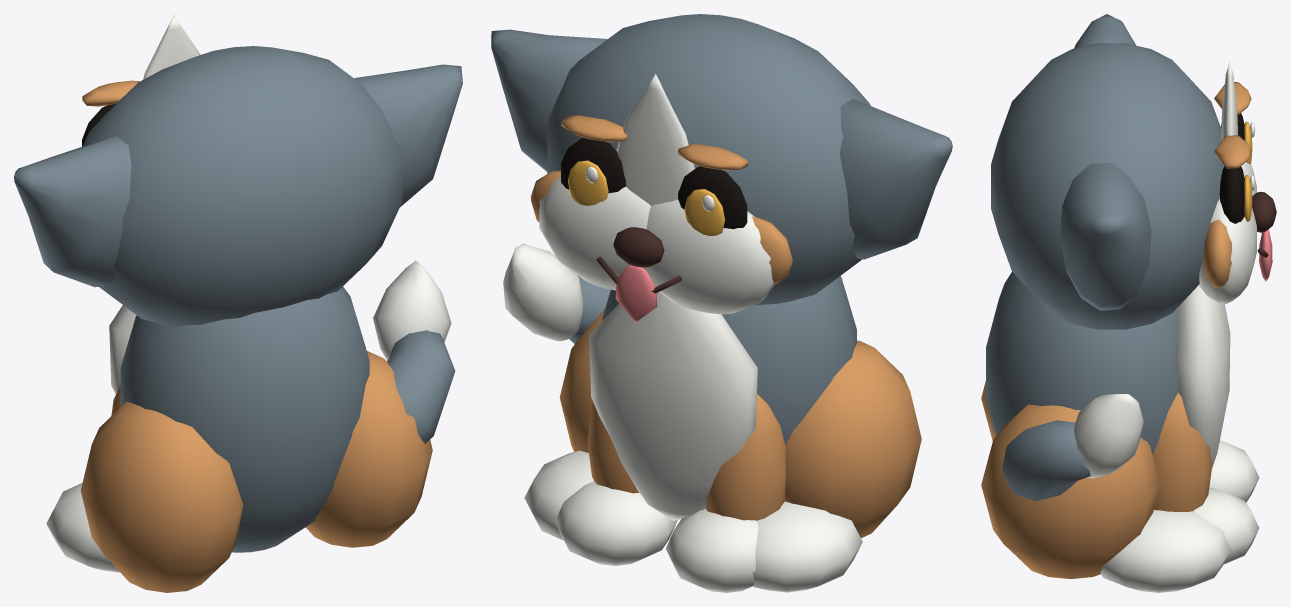
Rendered from FluffDog.glb.
3 renders of one model, left to right at view 1: azimuth 30°, elevation 25°; view 2: azimuth 150°, elevation 25°; view 3: azimuth 270°, elevation 25°, orthographic. The views are drawn at different scales.
Visible parts, largest first — view 1: Head, Body, LeftRearLeg, RightRearLeg, LeftEar, RightEar, Tail, TailTip, LeftRearPaw, FaceBlaze, Chest, LeftBrow; view 2: Head, Chest, LeftRearLeg, LeftEar, Body, LeftMuzzle, RightEar, LeftRearPaw, RightFrontPaw, RightMuzzle, FaceBlaze, LeftFrontPaw (+16 smaller); view 3: Head, Body, RightRearLeg, RightEar, RightRearPaw, Chest, Tail, RightFrontLeg, TailTip, RightMuzzle, RightFrontPaw, LeftFrontPaw (+8 smaller).
Part boxes in pixels (box(x1,y1,x2,y2)): Head: box(82, 46, 402, 326); Body: box(120, 286, 369, 552); LeftRearLeg: box(80, 401, 243, 592); RightRearLeg: box(305, 351, 432, 547); LeftEar: box(14, 136, 131, 287); RightEar: box(354, 64, 462, 206); Tail: box(387, 330, 455, 443); TailTip: box(373, 260, 451, 360); LeftRearPaw: box(46, 483, 119, 572); FaceBlaze: box(143, 14, 200, 79); Chest: box(109, 305, 136, 394); LeftBrow: box(82, 80, 139, 106); Head: box(547, 14, 870, 305); Chest: box(589, 292, 757, 520); LeftRearLeg: box(785, 340, 921, 538); LeftEar: box(840, 99, 952, 259); Body: box(601, 276, 856, 444); LeftMuzzle: box(646, 199, 773, 314); RightEar: box(491, 29, 607, 171); LeftRearPaw: box(752, 501, 862, 592); RightFrontPaw: box(555, 481, 677, 565); RightMuzzle: box(539, 177, 650, 290); FaceBlaze: box(616, 73, 694, 205); LeftFrontPaw: box(666, 508, 758, 592); Head: box(991, 43, 1223, 329); Body: box(986, 272, 1178, 454); RightRearLeg: box(981, 404, 1160, 578); RightEar: box(1060, 162, 1151, 310); RightRearPaw: box(1100, 510, 1231, 592); Chest: box(1175, 285, 1230, 468); Tail: box(1002, 420, 1090, 501); RightFrontLeg: box(1152, 393, 1212, 511); TailTip: box(1073, 394, 1143, 478); RightMuzzle: box(1199, 199, 1256, 303); RightFrontPaw: box(1193, 487, 1259, 564); LeftFrontPaw: box(1209, 440, 1259, 502).
Bounding box in the file's own units: 3.15 × 3.36 × 1.88.
